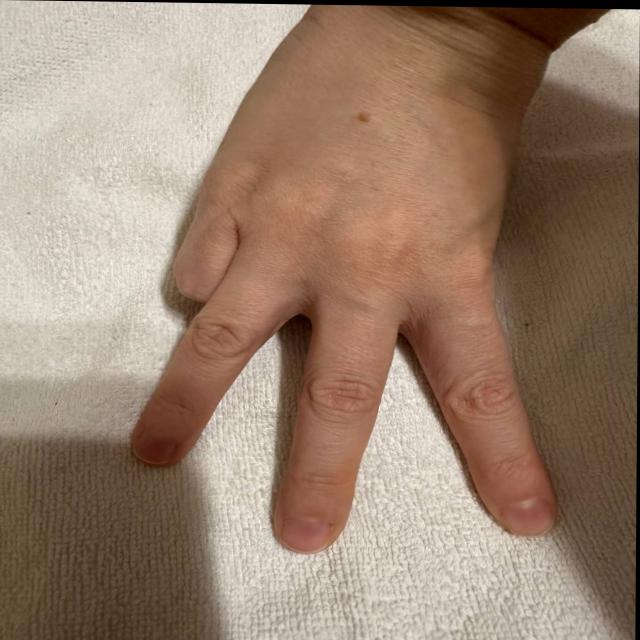m: (117, 51, 584, 557)
